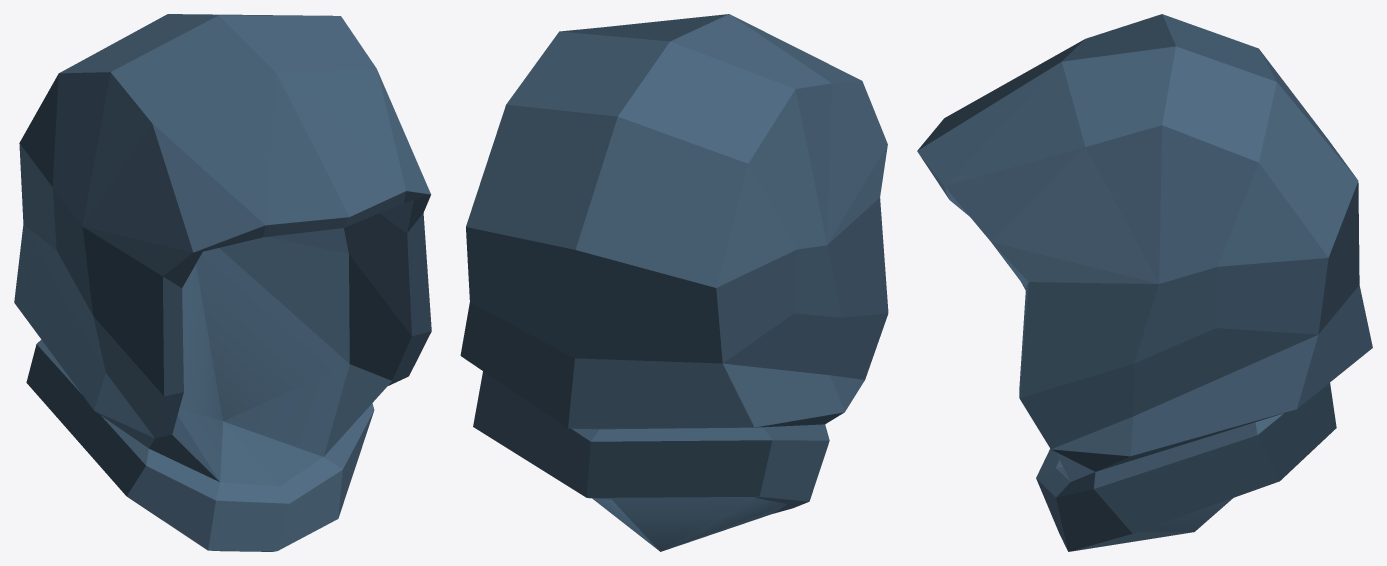
The model's file is Chr_HeadCoverings_No_Hair_05_Static.fbx.
3 views of the same model, side by side, from view 1: azimuth 30°, elevation 25°; view 2: azimuth 150°, elevation 25°; view 3: azimuth 270°, elevation 25° (orthographic). The views are drawn at different scales.
Parts seen in each view (by area): view 1: Chr_HeadCoverings_No_Hair_05_Static; view 2: Chr_HeadCoverings_No_Hair_05_Static; view 3: Chr_HeadCoverings_No_Hair_05_Static.
Boxes of the visible parts, box(x1,y1,x2,y2) form: Chr_HeadCoverings_No_Hair_05_Static: box(14, 14, 431, 551); Chr_HeadCoverings_No_Hair_05_Static: box(460, 14, 888, 551); Chr_HeadCoverings_No_Hair_05_Static: box(917, 14, 1372, 551).
Size of the model in its own units: 0.2791 by 0.4498 by 0.3777.
